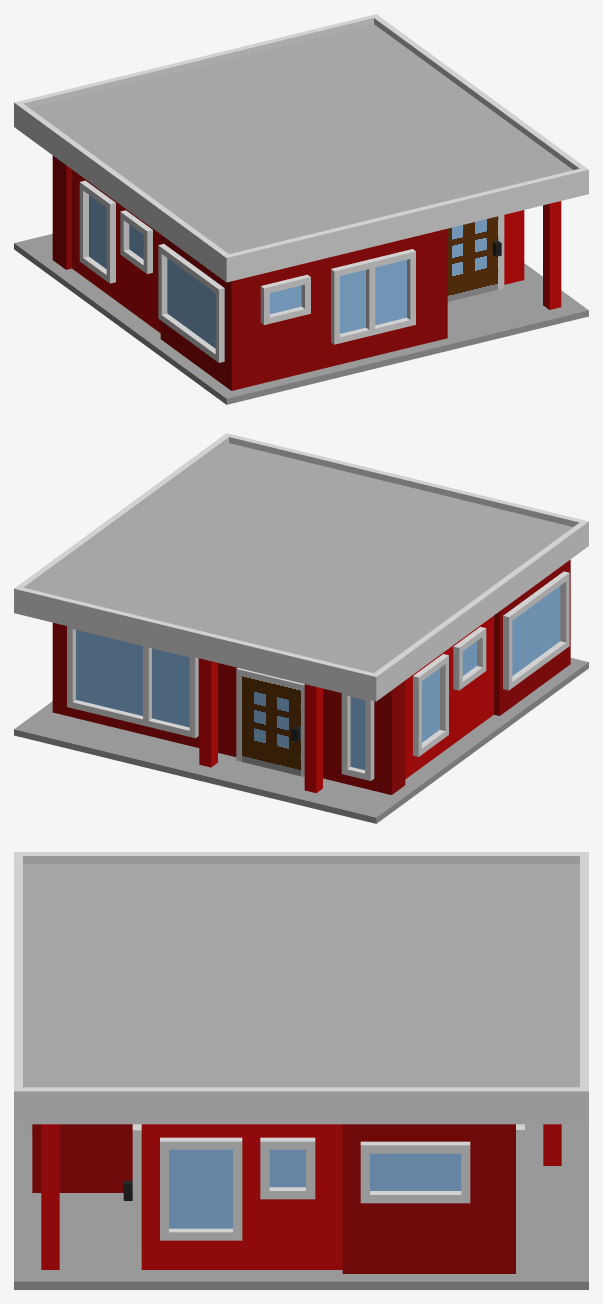
File: obj_house1c.fbx
3 renders of one model, top to bottom at view 1: azimuth 30°, elevation 25°; view 2: azimuth 150°, elevation 25°; view 3: azimuth 270°, elevation 25°, orthographic. The views are drawn at different scales.
Parts seen in each view (by area): view 1: obj_house1c; view 2: obj_house1c; view 3: obj_house1c.
Boxes of the visible parts, <box> form: obj_house1c: <box>14,14,588,404</box>; obj_house1c: <box>14,433,588,823</box>; obj_house1c: <box>14,852,588,1289</box>.
Bounding box in the file's own units: 6.2 × 6.3 × 2.4.
1 material, 1 textured.
